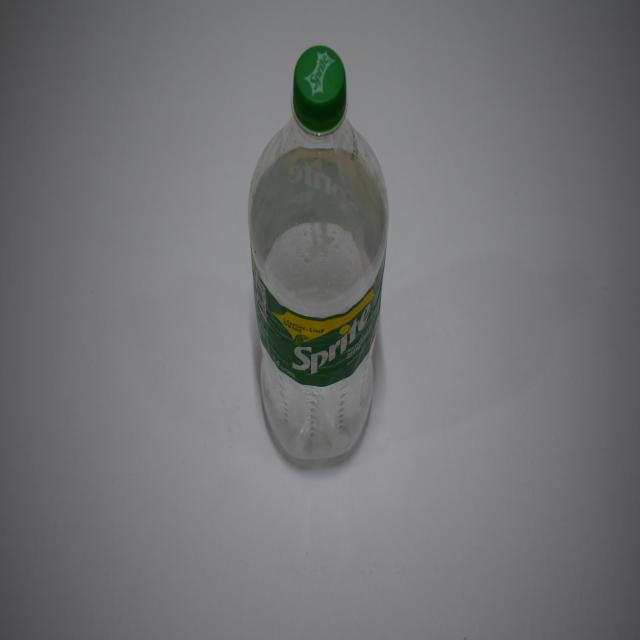bottle: (236, 31, 398, 508)
